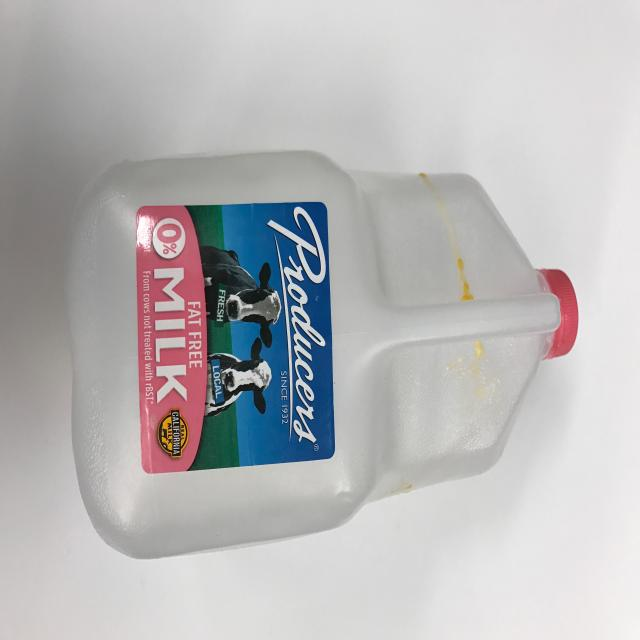plastic: (63, 148, 578, 560)
